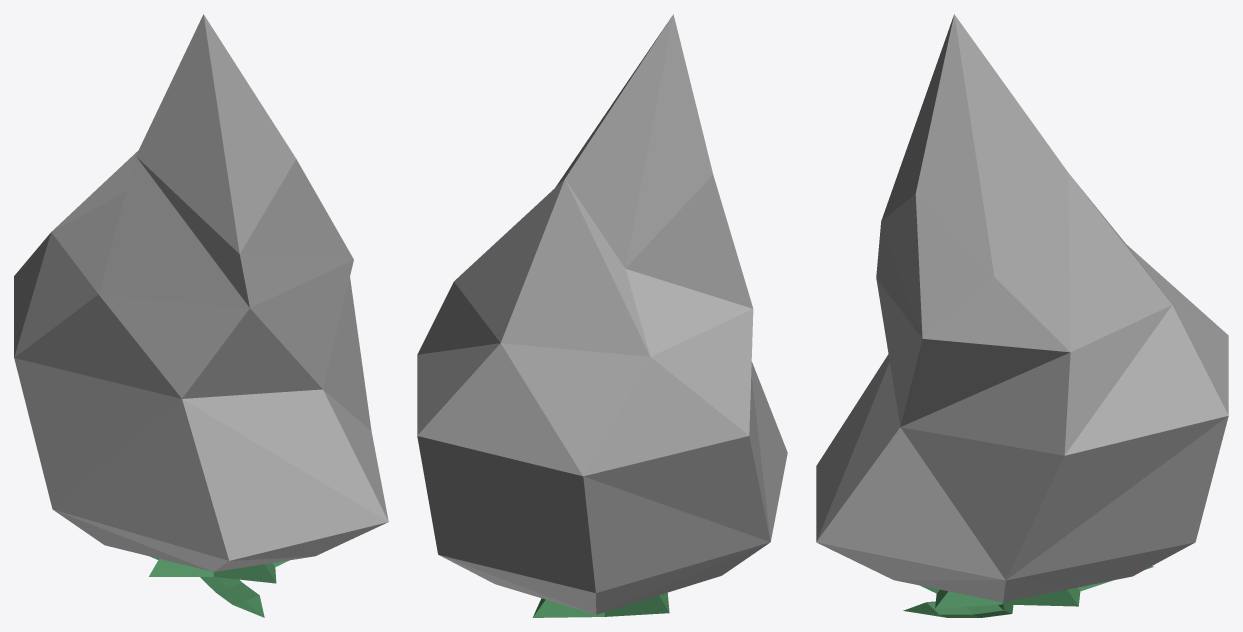
The model's file is pepperoni02.fbx.
The picture shows the model from 3 angles, left to right: view 1: azimuth 30°, elevation 25°; view 2: azimuth 150°, elevation 25°; view 3: azimuth 270°, elevation 25°; orthographic projection. The views are drawn at different scales.
Parts seen in each view (by area): view 1: pCylinder3; view 2: pCylinder3; view 3: pCylinder3.
Part boxes in pixels (left/top/right/bottom): pCylinder3: left=14, top=14, right=388, bottom=617; pCylinder3: left=417, top=14, right=787, bottom=617; pCylinder3: left=816, top=14, right=1228, bottom=617.
Bounding box in the file's own units: 0.00757 × 0.0129 × 0.00824.
